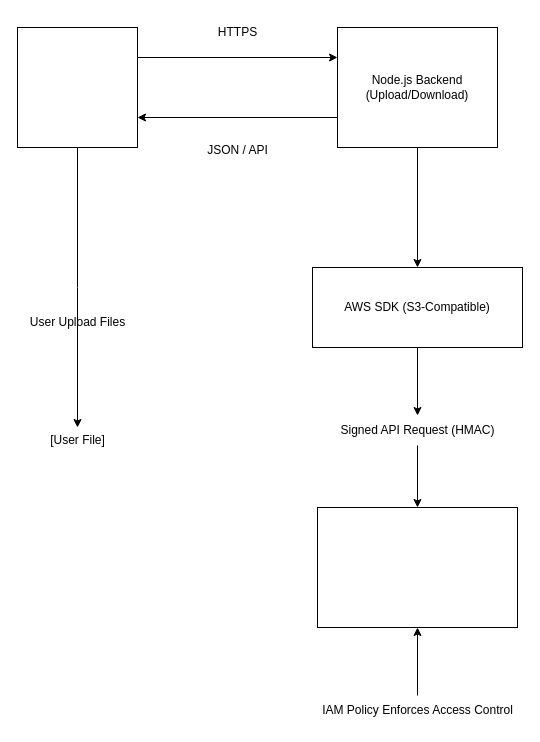
Image size: 540x742. Some labels were removed from this diagram. Here are the shapes that lost their labels. From the top down, the box of each, then its label:
(16, 26, 138, 148): Frontend (HTML/REACT)
(316, 506, 518, 628): IBM Cloud Object Storage - my-secure-storage - Encrypted
